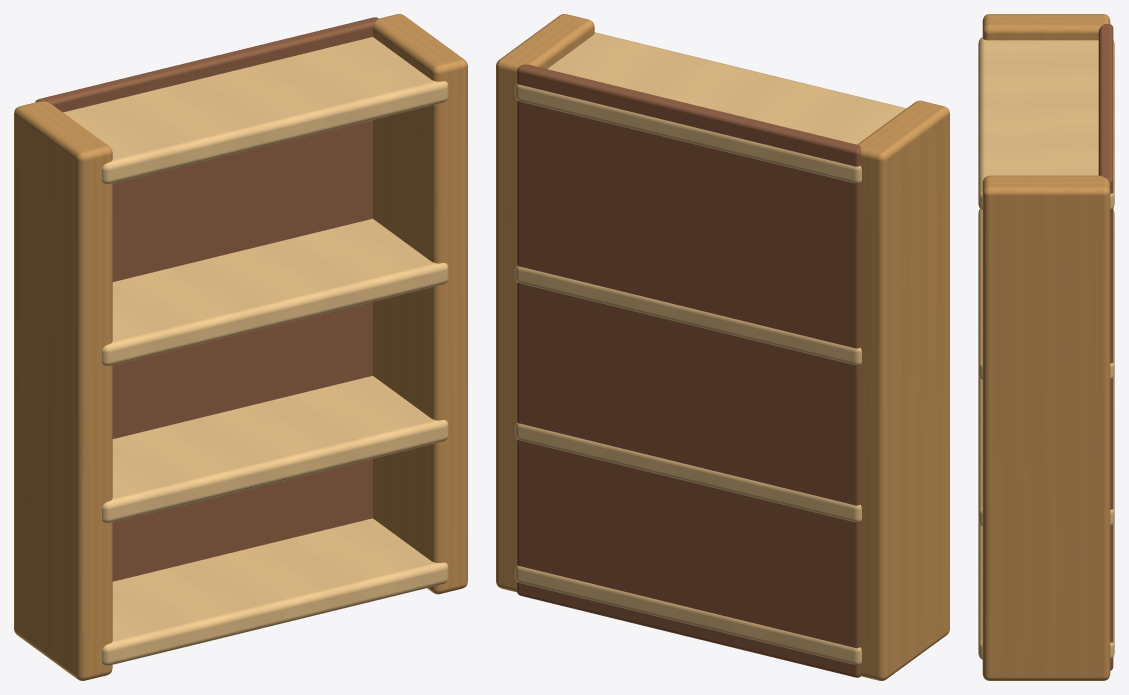
The model's file is SHELF.glb.
3 views of the same model, side by side, from view 1: azimuth 30°, elevation 25°; view 2: azimuth 150°, elevation 25°; view 3: azimuth 270°, elevation 25° (orthographic). The views are drawn at different scales.
Visible parts, largest first — view 1: SHELF; view 2: SHELF; view 3: SHELF.
Boxes of the visible parts, box(x1,y1,x2,y2) form: SHELF: box(14, 14, 467, 680); SHELF: box(496, 14, 949, 680); SHELF: box(978, 14, 1114, 680).
Size of the model in its own units: 0.99 by 1.28 by 0.32.
3 materials, 2 textured.
